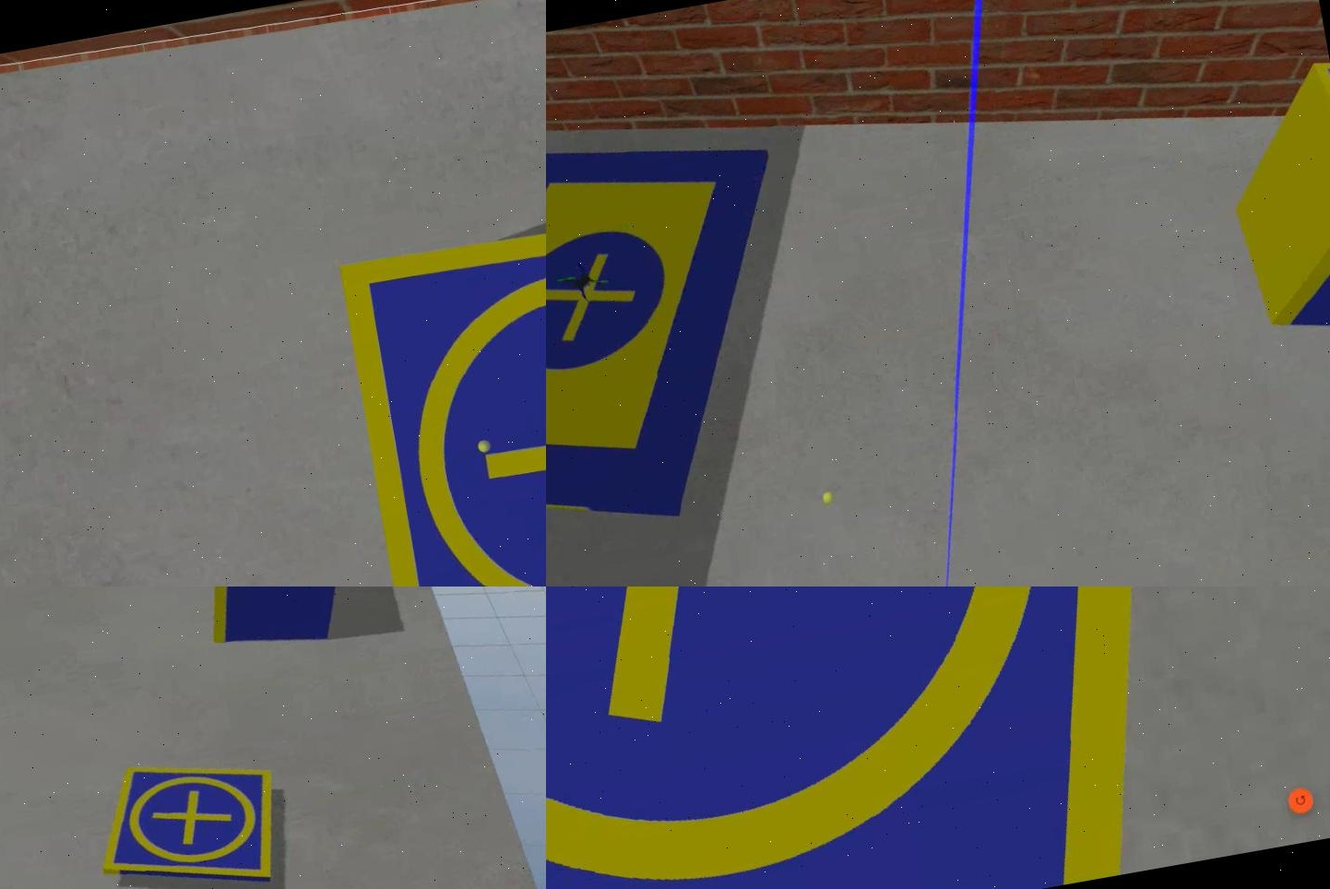large_base: (545, 109, 829, 575)
small_base: (545, 587, 1277, 889), (338, 185, 545, 587), (83, 742, 291, 889)
